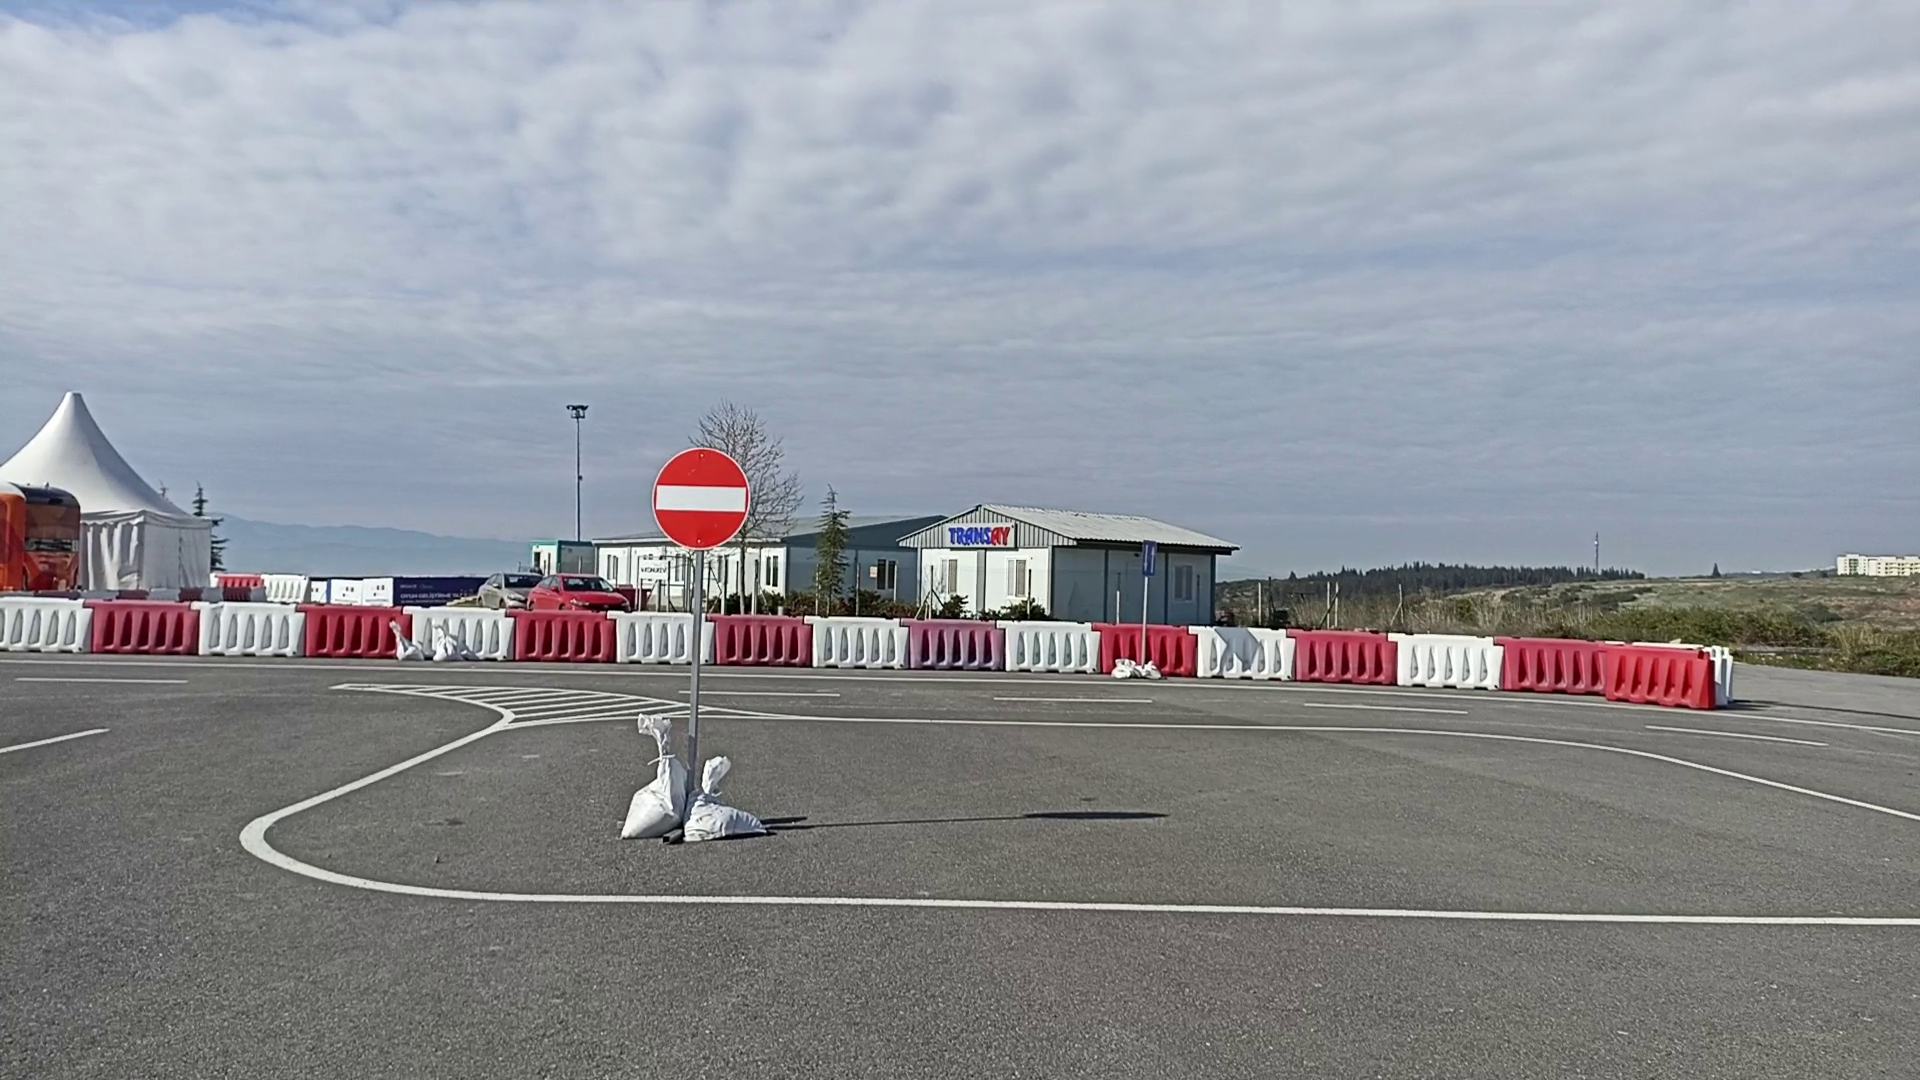noentryway: (649, 446, 756, 553)
